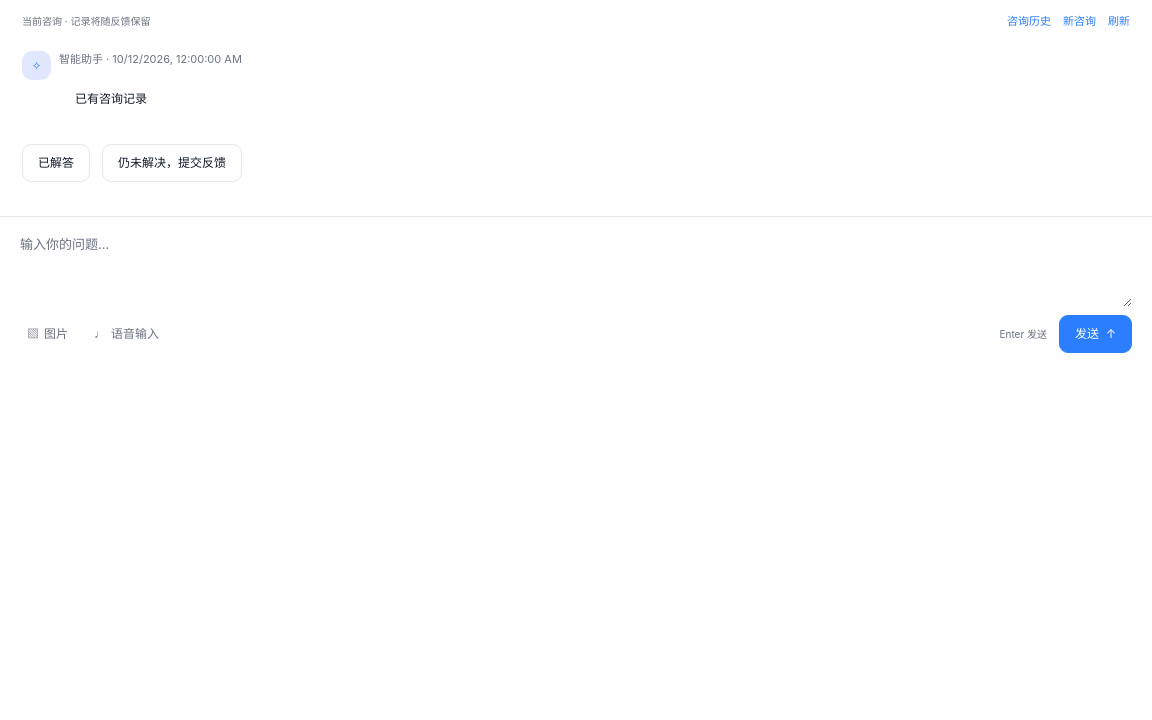
Test case: consultation history continuity › loads history summaries by page without reading every conversation body
Expected: the text "已有咨询记录" is shown, [75,90,147,106]
Click the button "咨询历史".
click(1029, 21)  # box [1007,13,1051,29]
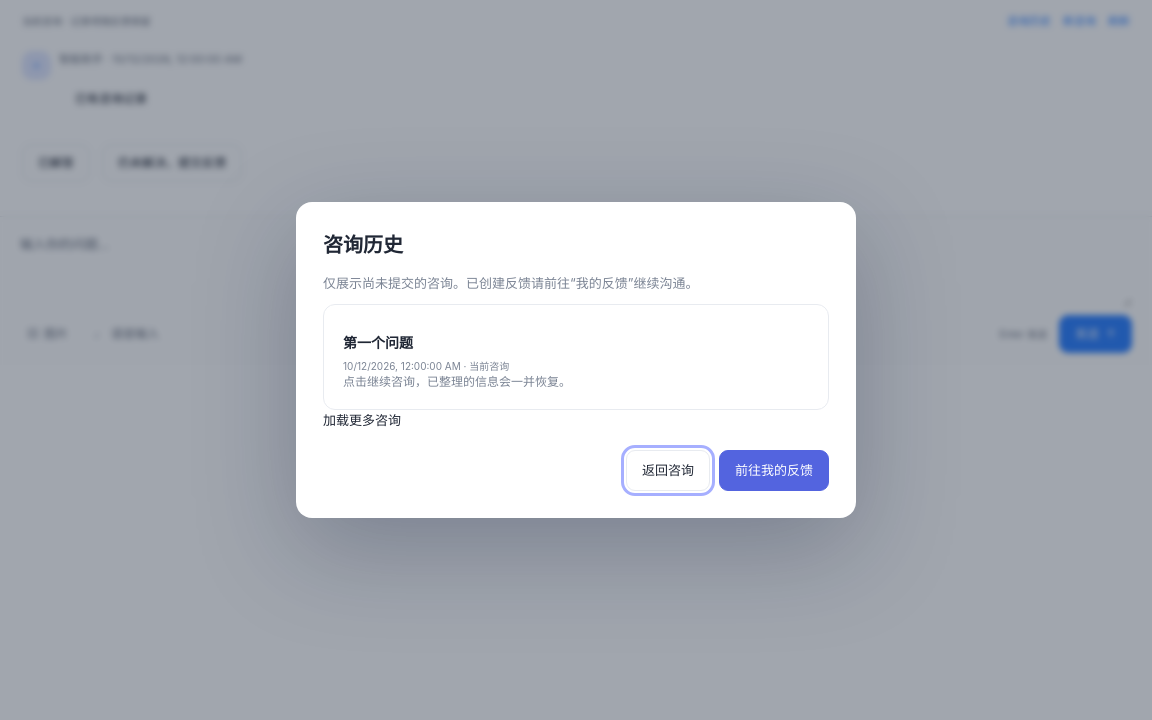
Click the button "加载更多咨询".
click(362, 420)  # box [323,410,401,430]
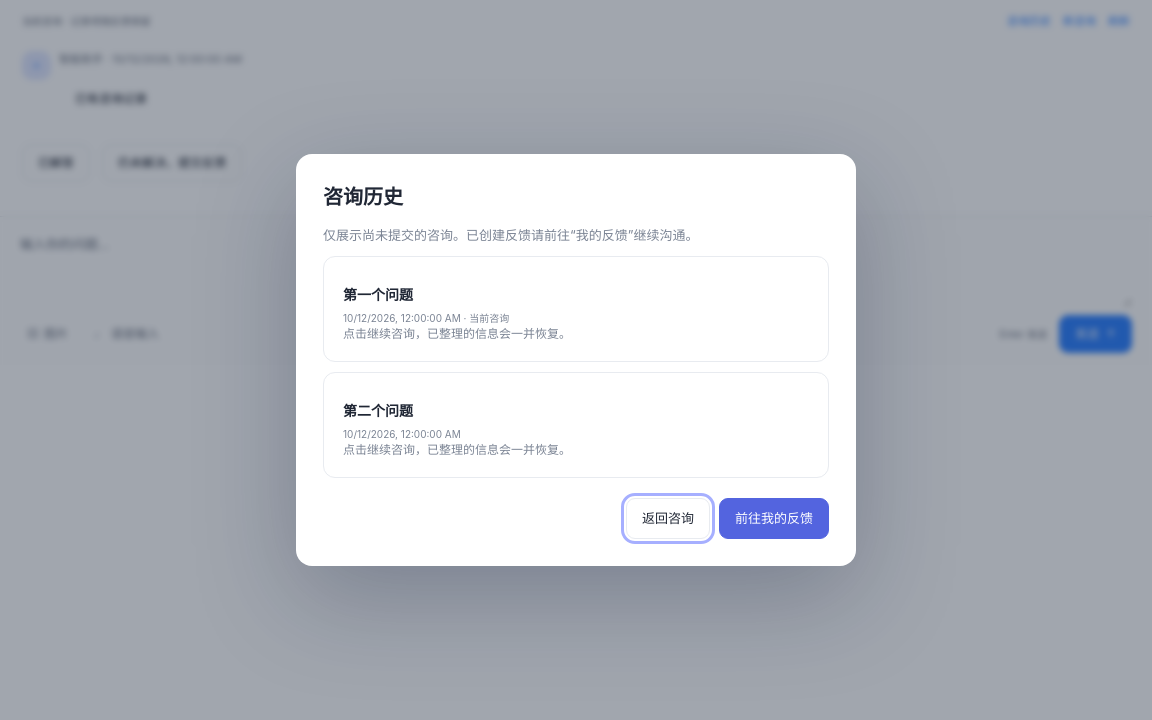
Expected: the heading "第一个问题" is shown, [343,286,413,303]
Expected: the heading "第二个问题" is shown, [343,402,413,419]
